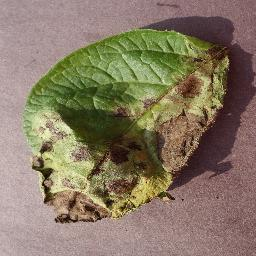Potato_late_Blight: (72, 129, 152, 207), (156, 108, 214, 173), (173, 45, 230, 109), (49, 192, 110, 223), (39, 112, 68, 143), (114, 107, 130, 116), (144, 99, 158, 109)
